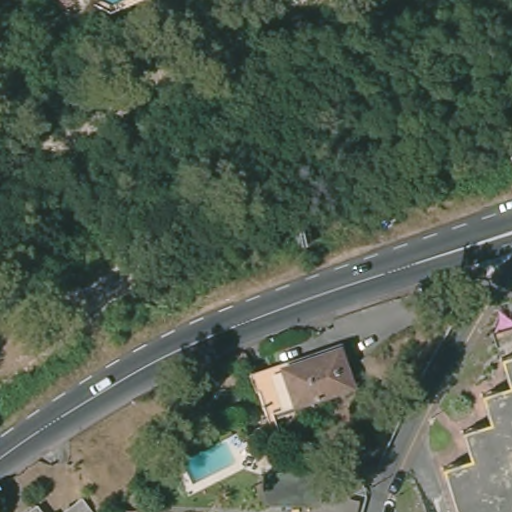pool: (174, 439, 243, 481)
